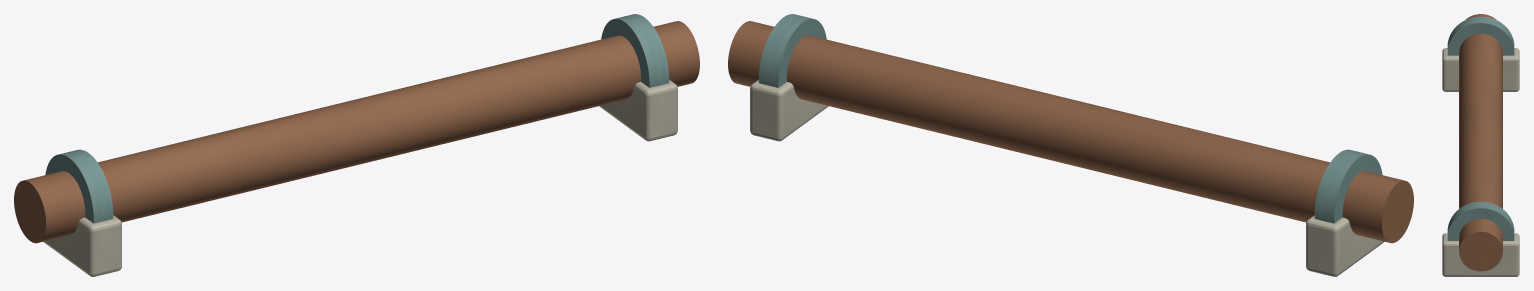
File: Pipe_Run_4m.glb
3 renders of one model, left to right at view 1: azimuth 30°, elevation 25°; view 2: azimuth 150°, elevation 25°; view 3: azimuth 270°, elevation 25°, orthographic. The views are drawn at different scales.
Visible parts, largest first — view 1: Pipe_Run_4m; view 2: Pipe_Run_4m; view 3: Pipe_Run_4m.
Part boxes in pixels (x1=…): Pipe_Run_4m: x1=14, y1=14, x2=699, y2=276; Pipe_Run_4m: x1=728, y1=14, x2=1413, y2=276; Pipe_Run_4m: x1=1442, y1=14, x2=1519, y2=276.
Bounding box in the file's own units: 4 × 0.58 × 0.6.
Materials: 3 (3 with a texture image).
